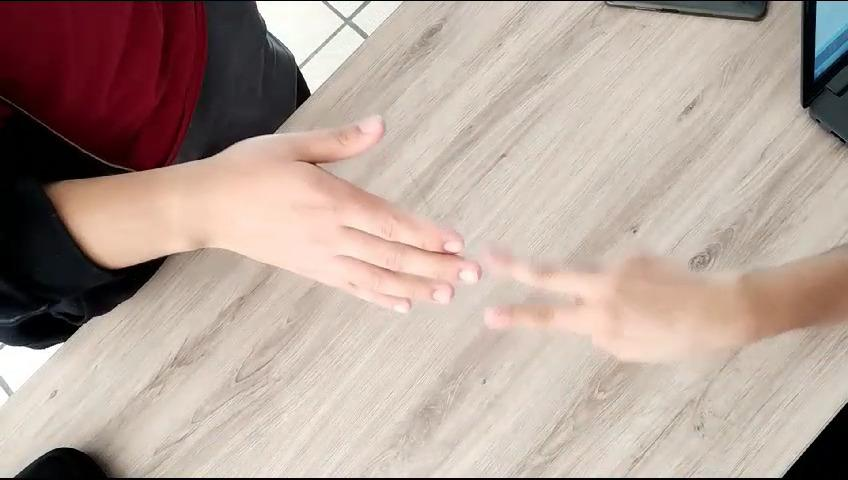Paper: (164, 58, 487, 363)
Scissor: (480, 206, 821, 389)
